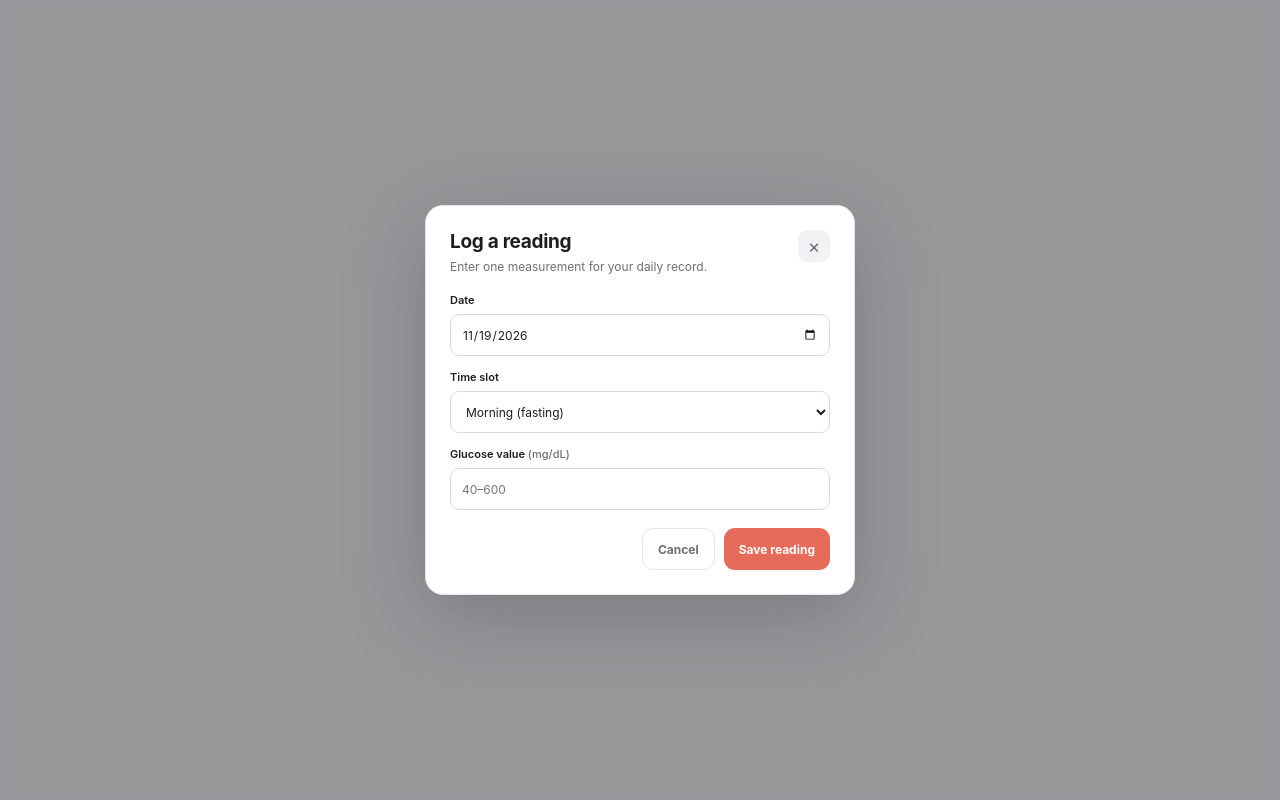
Test case: reading form › rejects fractional readings
Type "108.5" into the number field labelled "Glucose value (mg/dL)" at (640, 489), box [450, 468, 830, 510]
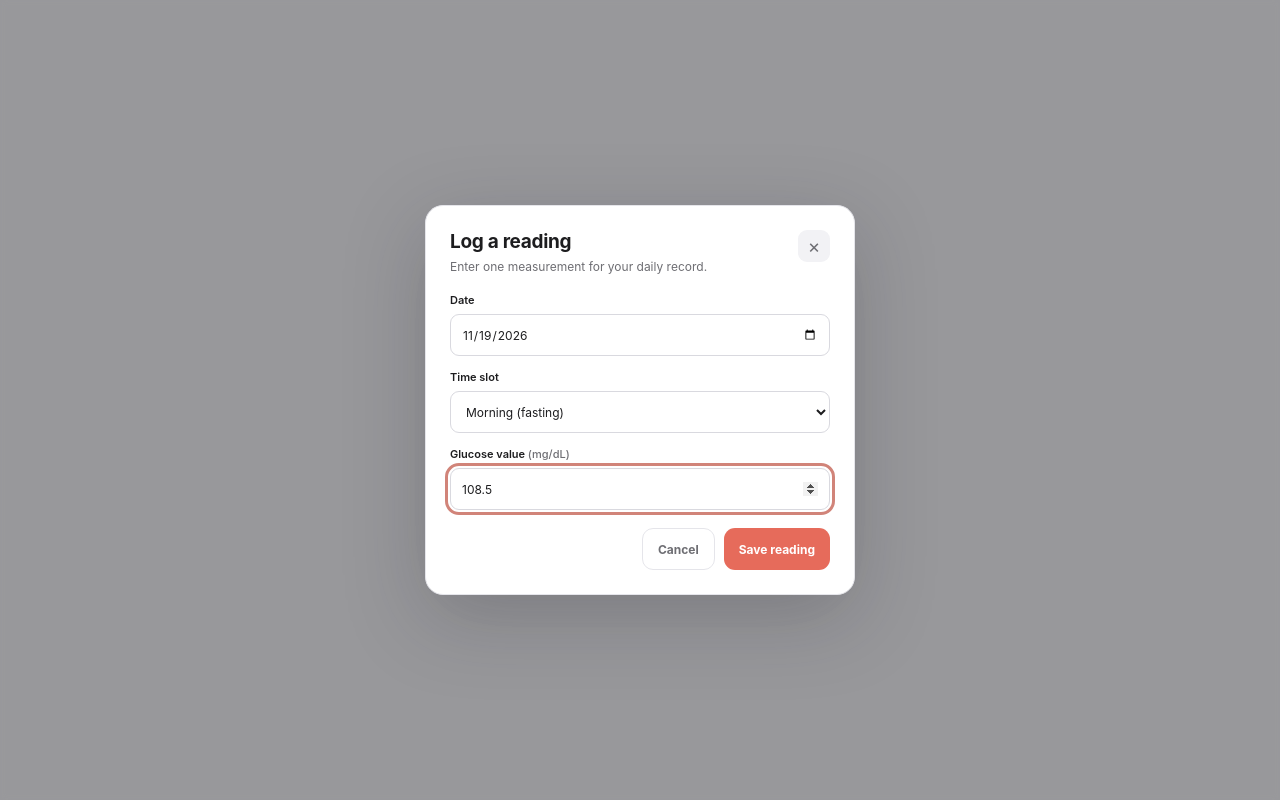
Click the button "Save reading" at (777, 549), box [724, 528, 830, 570]
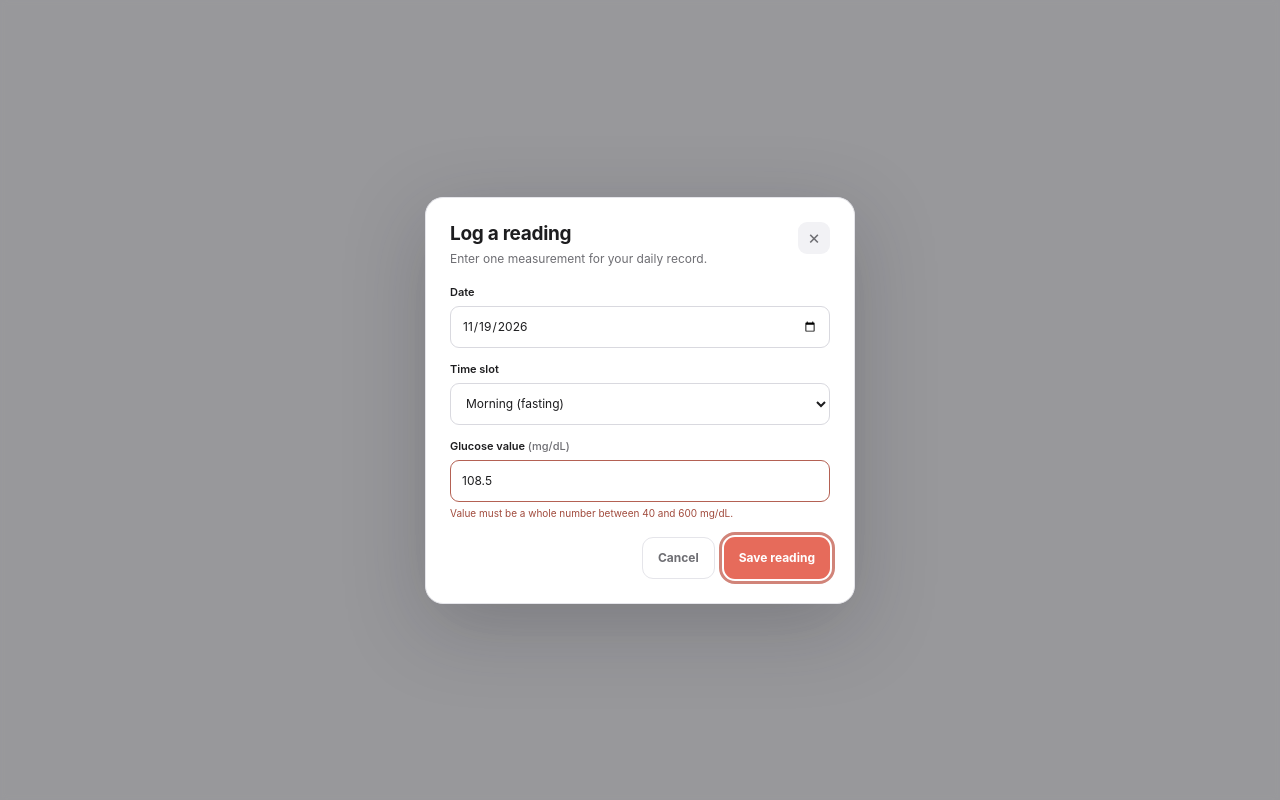
Now the text "Value must be a whole number between 40 and 600 mg/dL." is shown, box [450, 506, 733, 518]
